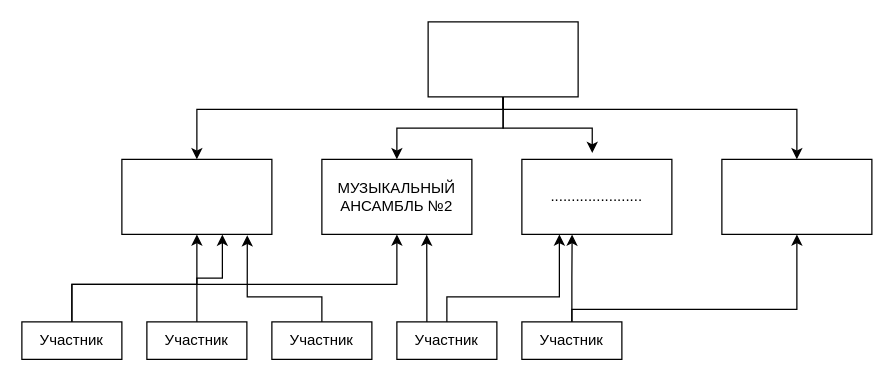
Image size: 894x381. Some labels were removed from this diagram. The shapes that lost their labels are listed below. From the top down, each one's box as (x1, y1, x2, y2) in pixels, then its label:
(427, 21, 578, 97): МУЗЫКАЛЬНЫЙ КОЛЛЕКТИВ
(121, 158, 272, 234): МУЗЫКАЛЬНЫЙ АНСАМБЛЬ №1
(721, 158, 872, 234): МУЗЫКАЛЬНЫЙ АНСАМБЛЬ №N
